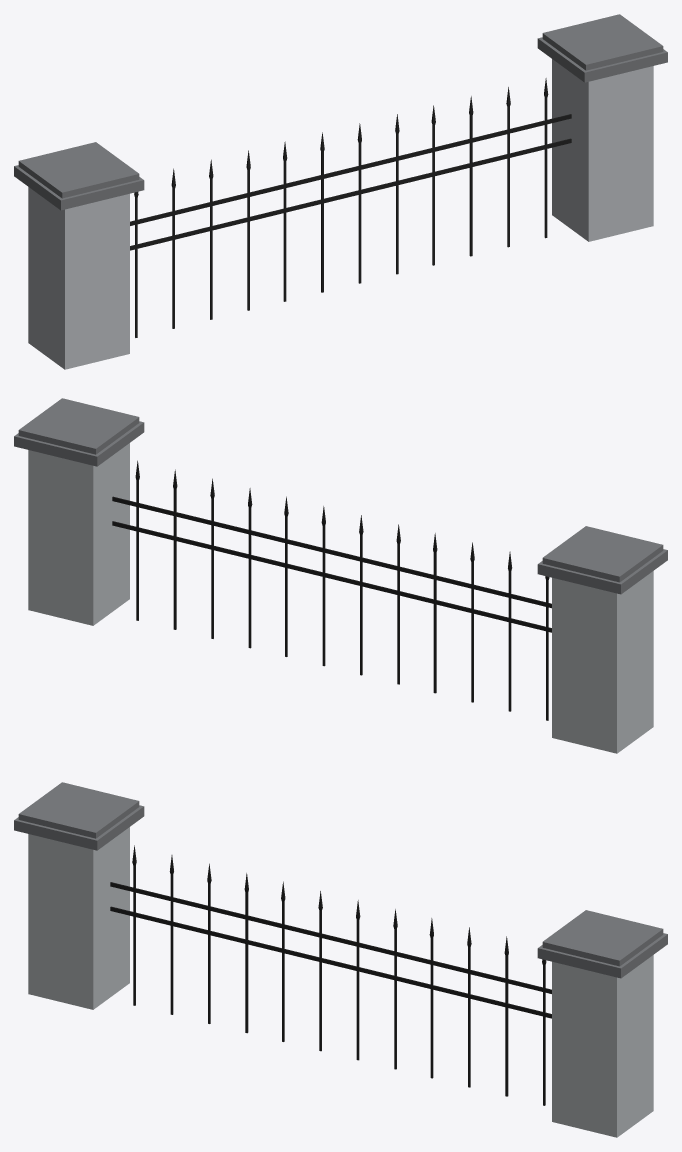
The model's file is SM_fence_04.fbx.
The picture shows the model from 3 angles, top to bottom: view 1: azimuth 30°, elevation 25°; view 2: azimuth 150°, elevation 25°; view 3: azimuth 330°, elevation 25°; orthographic projection.
Visible parts, largest first — view 1: Box217; view 2: Box217; view 3: Box217.
Part boxes in pixels (x1=…): Box217: x1=14, y1=14, x2=667, y2=369; Box217: x1=14, y1=398, x2=667, y2=753; Box217: x1=14, y1=782, x2=667, y2=1137.
Bounding box in the file's own units: 182 × 24.32 × 52.51.
